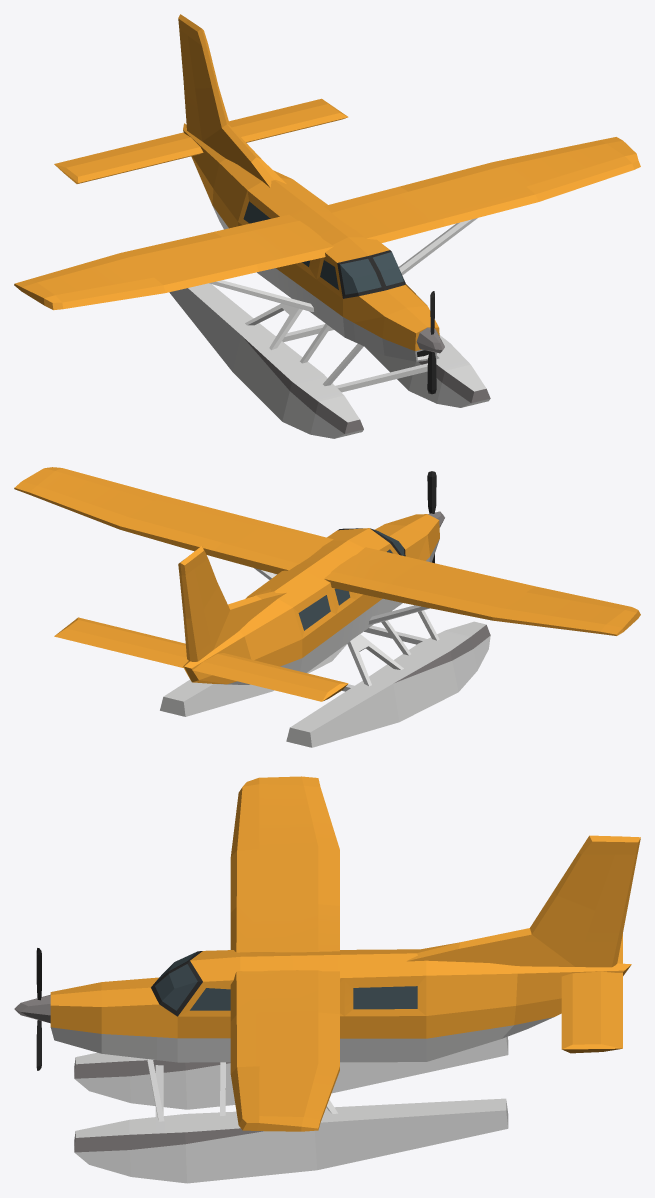
The model's file is vehicles_floatplane.fbx.
3 views of the same model, one above another, from view 1: azimuth 30°, elevation 25°; view 2: azimuth 150°, elevation 25°; view 3: azimuth 270°, elevation 25° (orthographic). The views are drawn at different scales.
Visible parts, largest first — view 1: floatplane_base, floatplane_propeller; view 2: floatplane_base, floatplane_propeller; view 3: floatplane_base, floatplane_propeller.
Part boxes in pixels (left/top/right/bottom): floatplane_base: left=14, top=14, right=640, bottom=438; floatplane_propeller: left=416, top=291, right=444, bottom=394; floatplane_base: left=14, top=467, right=640, bottom=747; floatplane_propeller: left=427, top=471, right=444, bottom=563; floatplane_base: left=50, top=776, right=640, bottom=1183; floatplane_propeller: left=14, top=948, right=50, bottom=1070.
Size of the model in its own units: 200 by 78.76 by 151.
